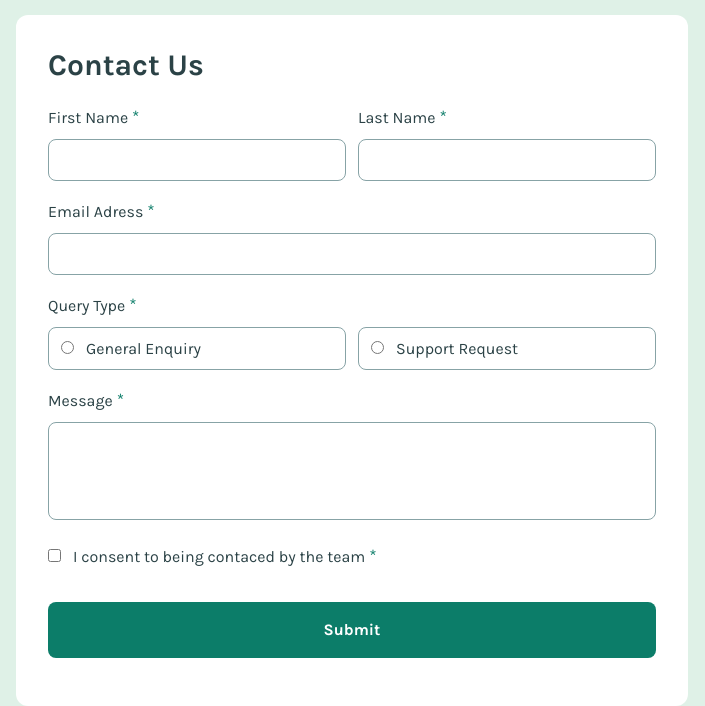
Scenario: MyForm › should return this field is required if value of inputs are missing, like first name,last name,email,message
This screenshot has width=705, height=706.
Step 1. Clear the field labelled "First Name*" → (197, 160), box [48,138,346,180]
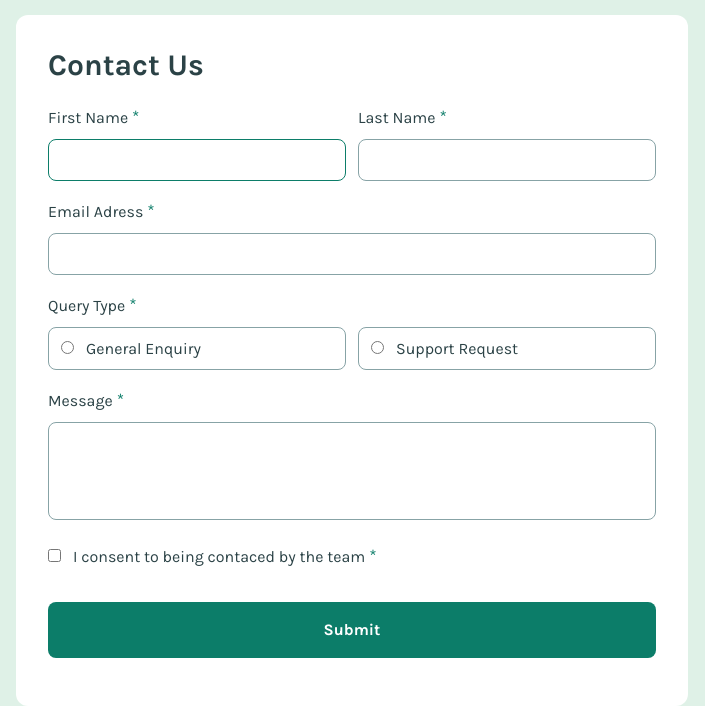
Step 2. Clear the field labelled "Last Name*" → (507, 160), box [358,138,656,180]
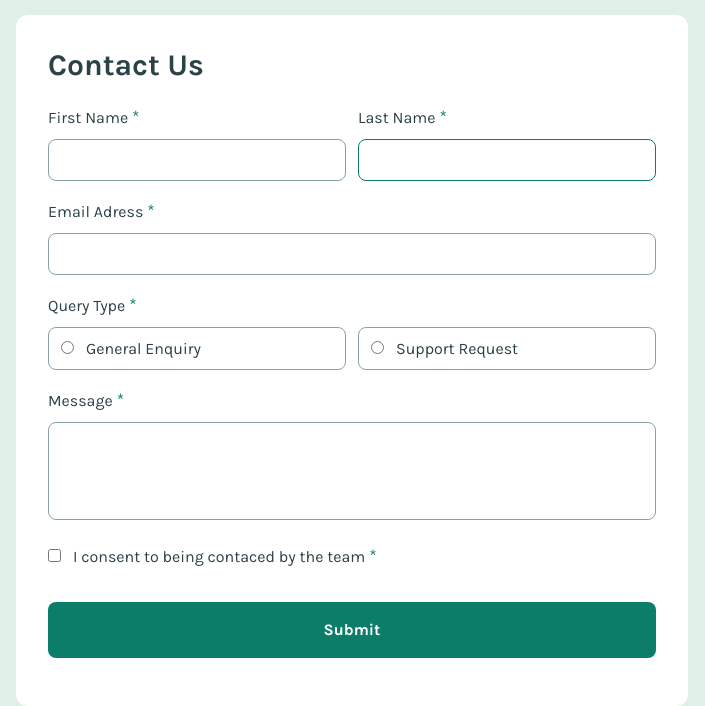
Step 3. Clear the field labelled "Email Adress*" → (352, 254), box [48,232,656,274]
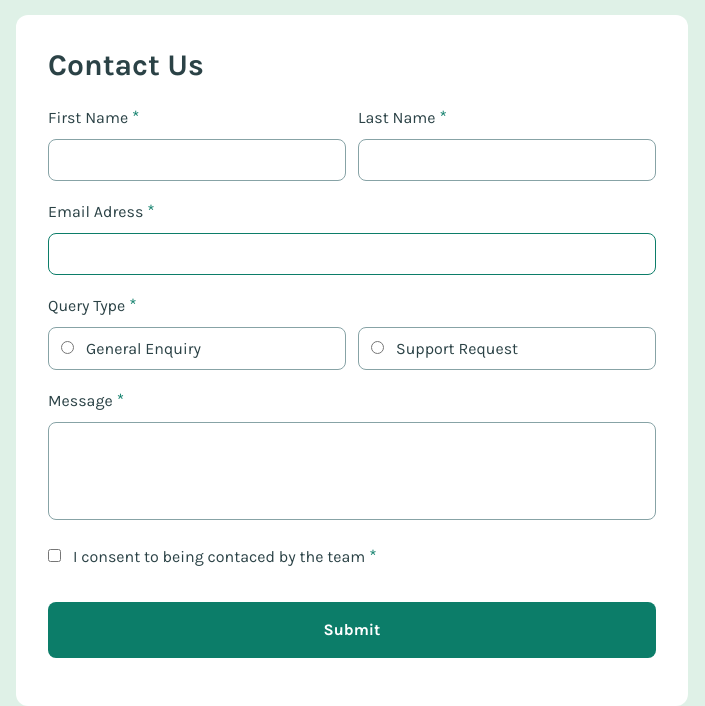
Step 4. Clear the text box labelled "Message*" → (352, 470), box [48,422,656,520]
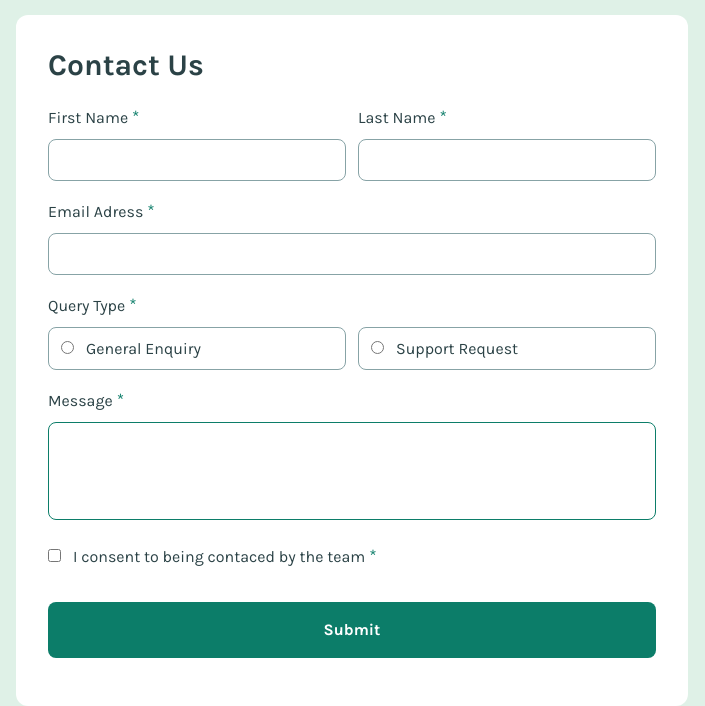
Step 5. Click the button "Submit" → click(352, 630), box [48,602,656,658]
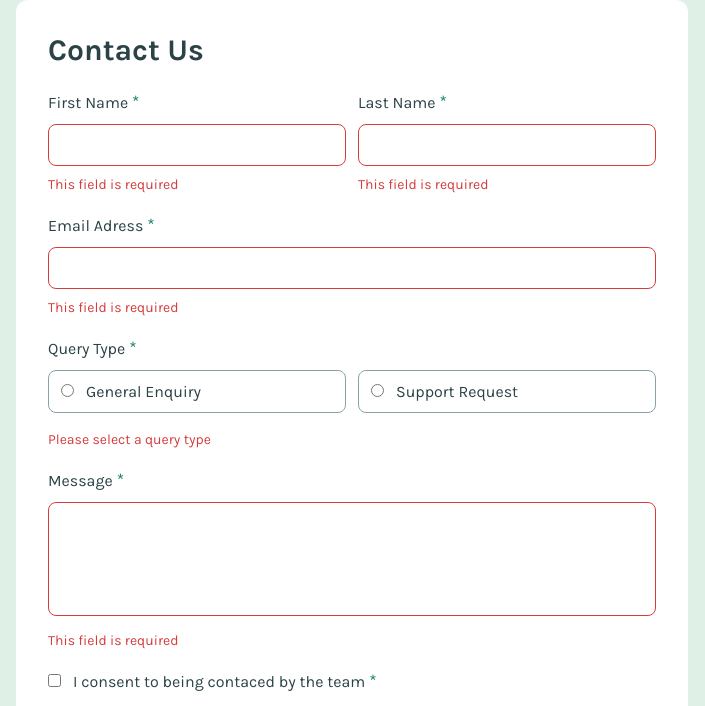
Expected: the text "This field is required" is shown 4 times, [48,176,178,193]; [358,176,488,193]; [48,299,178,316]; [48,632,178,649]
